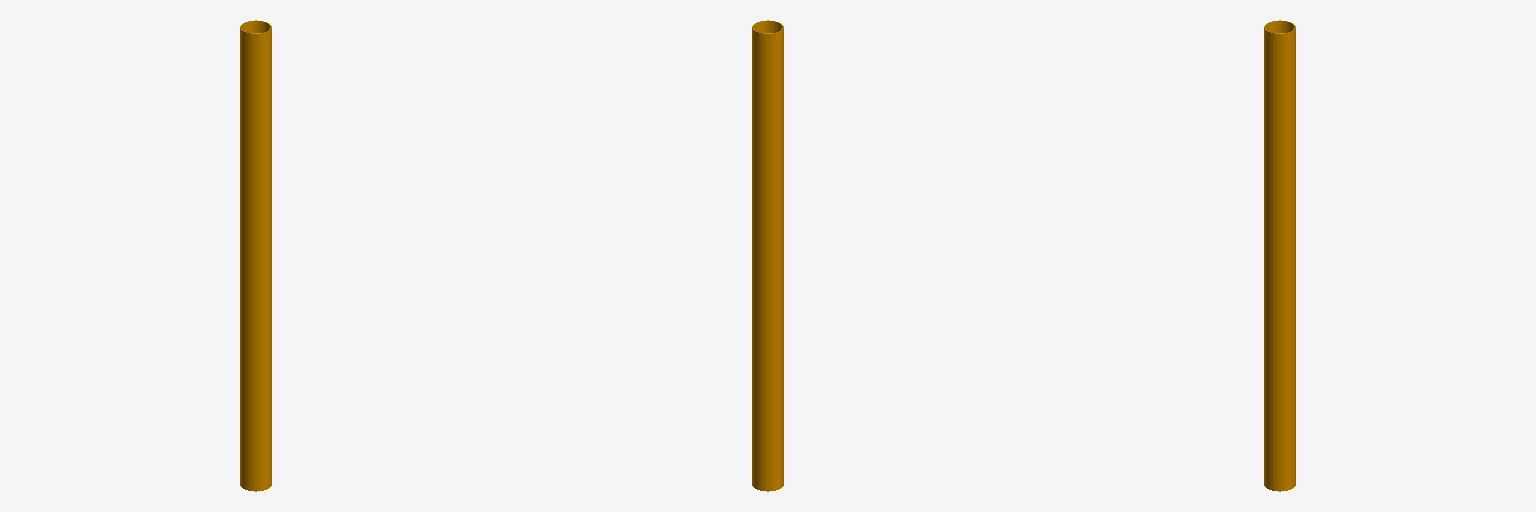
The robot description file, URDF, robot "small_alloy_tube":
<?xml version="1.0" ?>
<robot name="small_alloy_tube">
  <link name="base_link">
    <inertial>
      <origin xyz="0 0 0.08" rpy="0 0 0"/>
      <mass value="0.0142"/>
      <inertia ixx="3.04116667e-05" ixy="0" ixz="0" iyy="3.04116667e-05" iyz="0" izz="2.36666667e-07"/>
    </inertial>
    <visual name="visual">
      <origin xyz="0 0 0" rpy="0 0 0"/>
      <geometry>
        <mesh filename="meshes/visual.obj" scale="1 1 1"/>
      </geometry>
    </visual>
    <collision name="wall_00_00">
      <origin xyz="0 0 0" rpy="0 0 0"/>
      <geometry>
        <mesh filename="meshes/collision/wall_00_00.obj" scale="1 1 1"/>
      </geometry>
    </collision>
    <collision name="wall_00_01">
      <origin xyz="0 0 0" rpy="0 0 0"/>
      <geometry>
        <mesh filename="meshes/collision/wall_00_01.obj" scale="1 1 1"/>
      </geometry>
    </collision>
    <collision name="wall_00_02">
      <origin xyz="0 0 0" rpy="0 0 0"/>
      <geometry>
        <mesh filename="meshes/collision/wall_00_02.obj" scale="1 1 1"/>
      </geometry>
    </collision>
    <collision name="wall_00_03">
      <origin xyz="0 0 0" rpy="0 0 0"/>
      <geometry>
        <mesh filename="meshes/collision/wall_00_03.obj" scale="1 1 1"/>
      </geometry>
    </collision>
    <collision name="wall_00_04">
      <origin xyz="0 0 0" rpy="0 0 0"/>
      <geometry>
        <mesh filename="meshes/collision/wall_00_04.obj" scale="1 1 1"/>
      </geometry>
    </collision>
    <collision name="wall_00_05">
      <origin xyz="0 0 0" rpy="0 0 0"/>
      <geometry>
        <mesh filename="meshes/collision/wall_00_05.obj" scale="1 1 1"/>
      </geometry>
    </collision>
    <collision name="wall_00_06">
      <origin xyz="0 0 0" rpy="0 0 0"/>
      <geometry>
        <mesh filename="meshes/collision/wall_00_06.obj" scale="1 1 1"/>
      </geometry>
    </collision>
    <collision name="wall_00_07">
      <origin xyz="0 0 0" rpy="0 0 0"/>
      <geometry>
        <mesh filename="meshes/collision/wall_00_07.obj" scale="1 1 1"/>
      </geometry>
    </collision>
    <collision name="wall_00_08">
      <origin xyz="0 0 0" rpy="0 0 0"/>
      <geometry>
        <mesh filename="meshes/collision/wall_00_08.obj" scale="1 1 1"/>
      </geometry>
    </collision>
    <collision name="wall_00_09">
      <origin xyz="0 0 0" rpy="0 0 0"/>
      <geometry>
        <mesh filename="meshes/collision/wall_00_09.obj" scale="1 1 1"/>
      </geometry>
    </collision>
    <collision name="wall_00_10">
      <origin xyz="0 0 0" rpy="0 0 0"/>
      <geometry>
        <mesh filename="meshes/collision/wall_00_10.obj" scale="1 1 1"/>
      </geometry>
    </collision>
    <collision name="wall_00_11">
      <origin xyz="0 0 0" rpy="0 0 0"/>
      <geometry>
        <mesh filename="meshes/collision/wall_00_11.obj" scale="1 1 1"/>
      </geometry>
    </collision>
    <collision name="wall_00_12">
      <origin xyz="0 0 0" rpy="0 0 0"/>
      <geometry>
        <mesh filename="meshes/collision/wall_00_12.obj" scale="1 1 1"/>
      </geometry>
    </collision>
    <collision name="wall_00_13">
      <origin xyz="0 0 0" rpy="0 0 0"/>
      <geometry>
        <mesh filename="meshes/collision/wall_00_13.obj" scale="1 1 1"/>
      </geometry>
    </collision>
    <collision name="wall_00_14">
      <origin xyz="0 0 0" rpy="0 0 0"/>
      <geometry>
        <mesh filename="meshes/collision/wall_00_14.obj" scale="1 1 1"/>
      </geometry>
    </collision>
    <collision name="wall_00_15">
      <origin xyz="0 0 0" rpy="0 0 0"/>
      <geometry>
        <mesh filename="meshes/collision/wall_00_15.obj" scale="1 1 1"/>
      </geometry>
    </collision>
    <collision name="wall_01_00">
      <origin xyz="0 0 0" rpy="0 0 0"/>
      <geometry>
        <mesh filename="meshes/collision/wall_01_00.obj" scale="1 1 1"/>
      </geometry>
    </collision>
    <collision name="wall_01_01">
      <origin xyz="0 0 0" rpy="0 0 0"/>
      <geometry>
        <mesh filename="meshes/collision/wall_01_01.obj" scale="1 1 1"/>
      </geometry>
    </collision>
    <collision name="wall_01_02">
      <origin xyz="0 0 0" rpy="0 0 0"/>
      <geometry>
        <mesh filename="meshes/collision/wall_01_02.obj" scale="1 1 1"/>
      </geometry>
    </collision>
    <collision name="wall_01_03">
      <origin xyz="0 0 0" rpy="0 0 0"/>
      <geometry>
        <mesh filename="meshes/collision/wall_01_03.obj" scale="1 1 1"/>
      </geometry>
    </collision>
    <collision name="wall_01_04">
      <origin xyz="0 0 0" rpy="0 0 0"/>
      <geometry>
        <mesh filename="meshes/collision/wall_01_04.obj" scale="1 1 1"/>
      </geometry>
    </collision>
    <collision name="wall_01_05">
      <origin xyz="0 0 0" rpy="0 0 0"/>
      <geometry>
        <mesh filename="meshes/collision/wall_01_05.obj" scale="1 1 1"/>
      </geometry>
    </collision>
    <collision name="wall_01_06">
      <origin xyz="0 0 0" rpy="0 0 0"/>
      <geometry>
        <mesh filename="meshes/collision/wall_01_06.obj" scale="1 1 1"/>
      </geometry>
    </collision>
    <collision name="wall_01_07">
      <origin xyz="0 0 0" rpy="0 0 0"/>
      <geometry>
        <mesh filename="meshes/collision/wall_01_07.obj" scale="1 1 1"/>
      </geometry>
    </collision>
    <collision name="wall_01_08">
      <origin xyz="0 0 0" rpy="0 0 0"/>
      <geometry>
        <mesh filename="meshes/collision/wall_01_08.obj" scale="1 1 1"/>
      </geometry>
    </collision>
    <collision name="wall_01_09">
      <origin xyz="0 0 0" rpy="0 0 0"/>
      <geometry>
        <mesh filename="meshes/collision/wall_01_09.obj" scale="1 1 1"/>
      </geometry>
    </collision>
    <collision name="wall_01_10">
      <origin xyz="0 0 0" rpy="0 0 0"/>
      <geometry>
        <mesh filename="meshes/collision/wall_01_10.obj" scale="1 1 1"/>
      </geometry>
    </collision>
    <collision name="wall_01_11">
      <origin xyz="0 0 0" rpy="0 0 0"/>
      <geometry>
        <mesh filename="meshes/collision/wall_01_11.obj" scale="1 1 1"/>
      </geometry>
    </collision>
    <collision name="wall_01_12">
      <origin xyz="0 0 0" rpy="0 0 0"/>
      <geometry>
        <mesh filename="meshes/collision/wall_01_12.obj" scale="1 1 1"/>
      </geometry>
    </collision>
    <collision name="wall_01_13">
      <origin xyz="0 0 0" rpy="0 0 0"/>
      <geometry>
        <mesh filename="meshes/collision/wall_01_13.obj" scale="1 1 1"/>
      </geometry>
    </collision>
    <collision name="wall_01_14">
      <origin xyz="0 0 0" rpy="0 0 0"/>
      <geometry>
        <mesh filename="meshes/collision/wall_01_14.obj" scale="1 1 1"/>
      </geometry>
    </collision>
    <collision name="wall_01_15">
      <origin xyz="0 0 0" rpy="0 0 0"/>
      <geometry>
        <mesh filename="meshes/collision/wall_01_15.obj" scale="1 1 1"/>
      </geometry>
    </collision>
  </link>
</robot>

--- Facts derived from the render (not from the file) ---
3 views of the same robot in one strip: view 1: azimuth 30°, elevation 25°; view 2: azimuth 150°, elevation 25°; view 3: azimuth 270°, elevation 25° (orthographic).
Robot: small_alloy_tube — 1 links, 0 joints (none); root link base_link; default pose: every joint at zero.
Visible links, largest first — view 1: base_link; view 2: base_link; view 3: base_link.
Boxes of the visible links, bbox=[...] form: base_link: bbox=[240, 20, 271, 491]; base_link: bbox=[752, 20, 783, 491]; base_link: bbox=[1264, 20, 1295, 491].
Size in the robot's own frame: 0.01 by 0.01 by 0.16 metres.
Meshes: 1 distinct files referenced, 1 mesh visuals loaded (1 OBJ).
